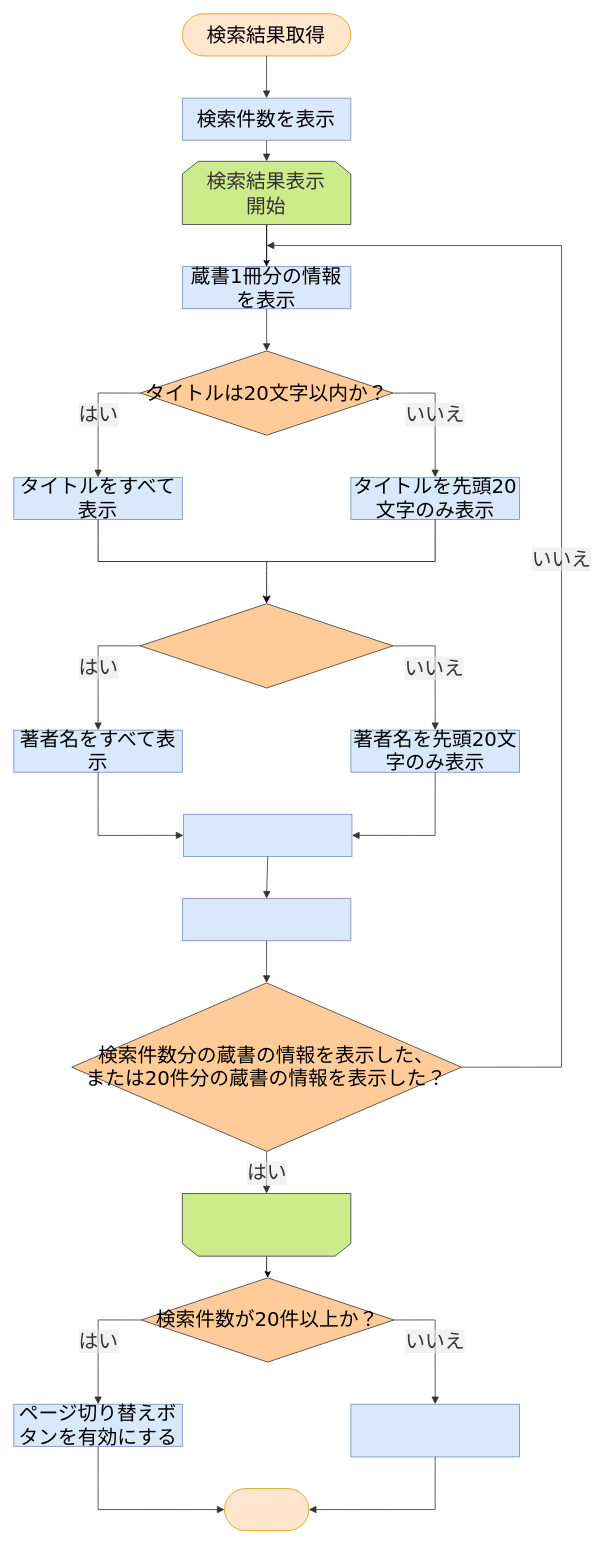
The diagram is 605 pixels wide and 1544 high, and some of its shapes have lost their labels. The shapes that lost their labels are listed below. From the top down, each one's centre as x and y in pixels, then its label:
At (x=266, y=645): "著者名は20文字以内か？".
At (x=267, y=835): "ジャンルを表示".
At (x=266, y=919): "貸出状態を表示".
At (x=266, y=1224): "検索結果表示 終了".
At (x=434, y=1430): "ページ切り替えボタンを無効にする".
At (x=266, y=1509): "終了".
